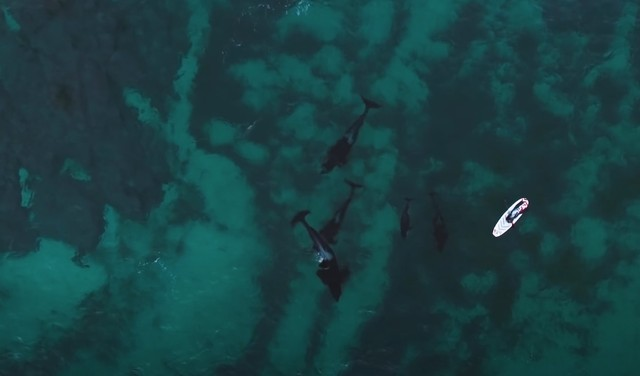whale: (283, 205, 352, 309), (315, 87, 381, 183), (313, 173, 363, 251), (425, 180, 451, 257), (396, 193, 417, 246)
